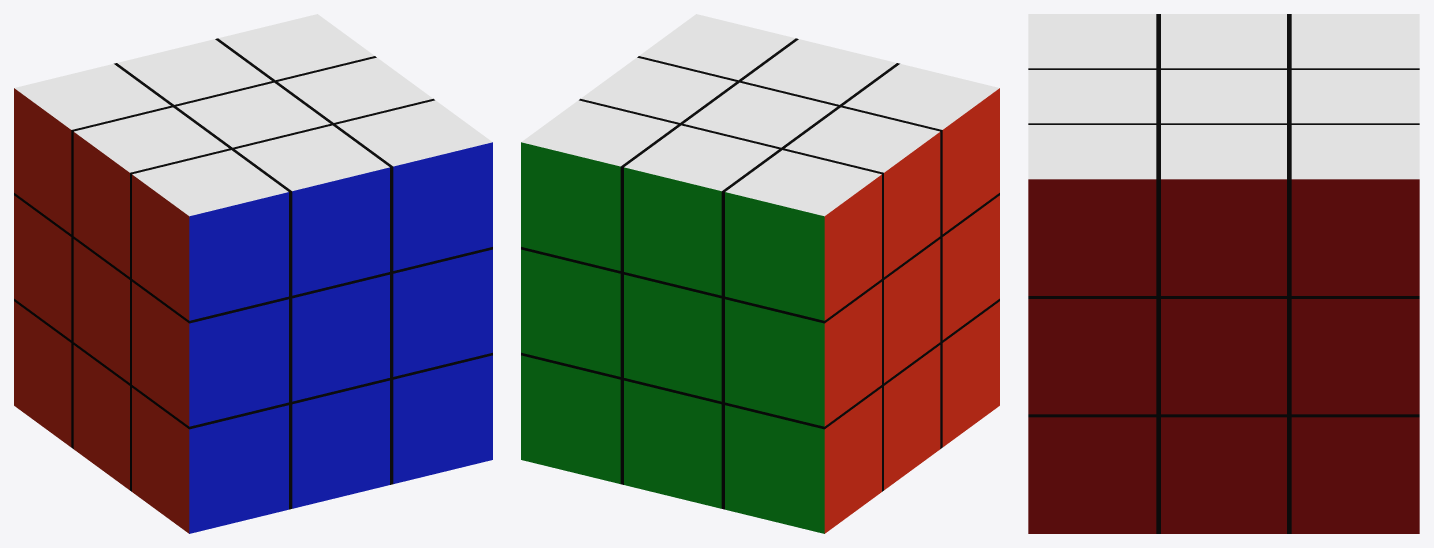
Rendered from RubickResuelto.FBX.
3 views of the same model, side by side, from view 1: azimuth 30°, elevation 25°; view 2: azimuth 150°, elevation 25°; view 3: azimuth 270°, elevation 25° (orthographic). The views are drawn at different scales.
Parts seen in each view (by area): view 1: Rubick Resuelto; view 2: Rubick Resuelto; view 3: Rubick Resuelto.
Boxes of the visible parts, <box> form: Rubick Resuelto: <box>14,14,492,533</box>; Rubick Resuelto: <box>521,14,999,533</box>; Rubick Resuelto: <box>1028,14,1419,533</box>.
Bounding box in the file's own units: 0.2603 × 0.2603 × 0.2603.
